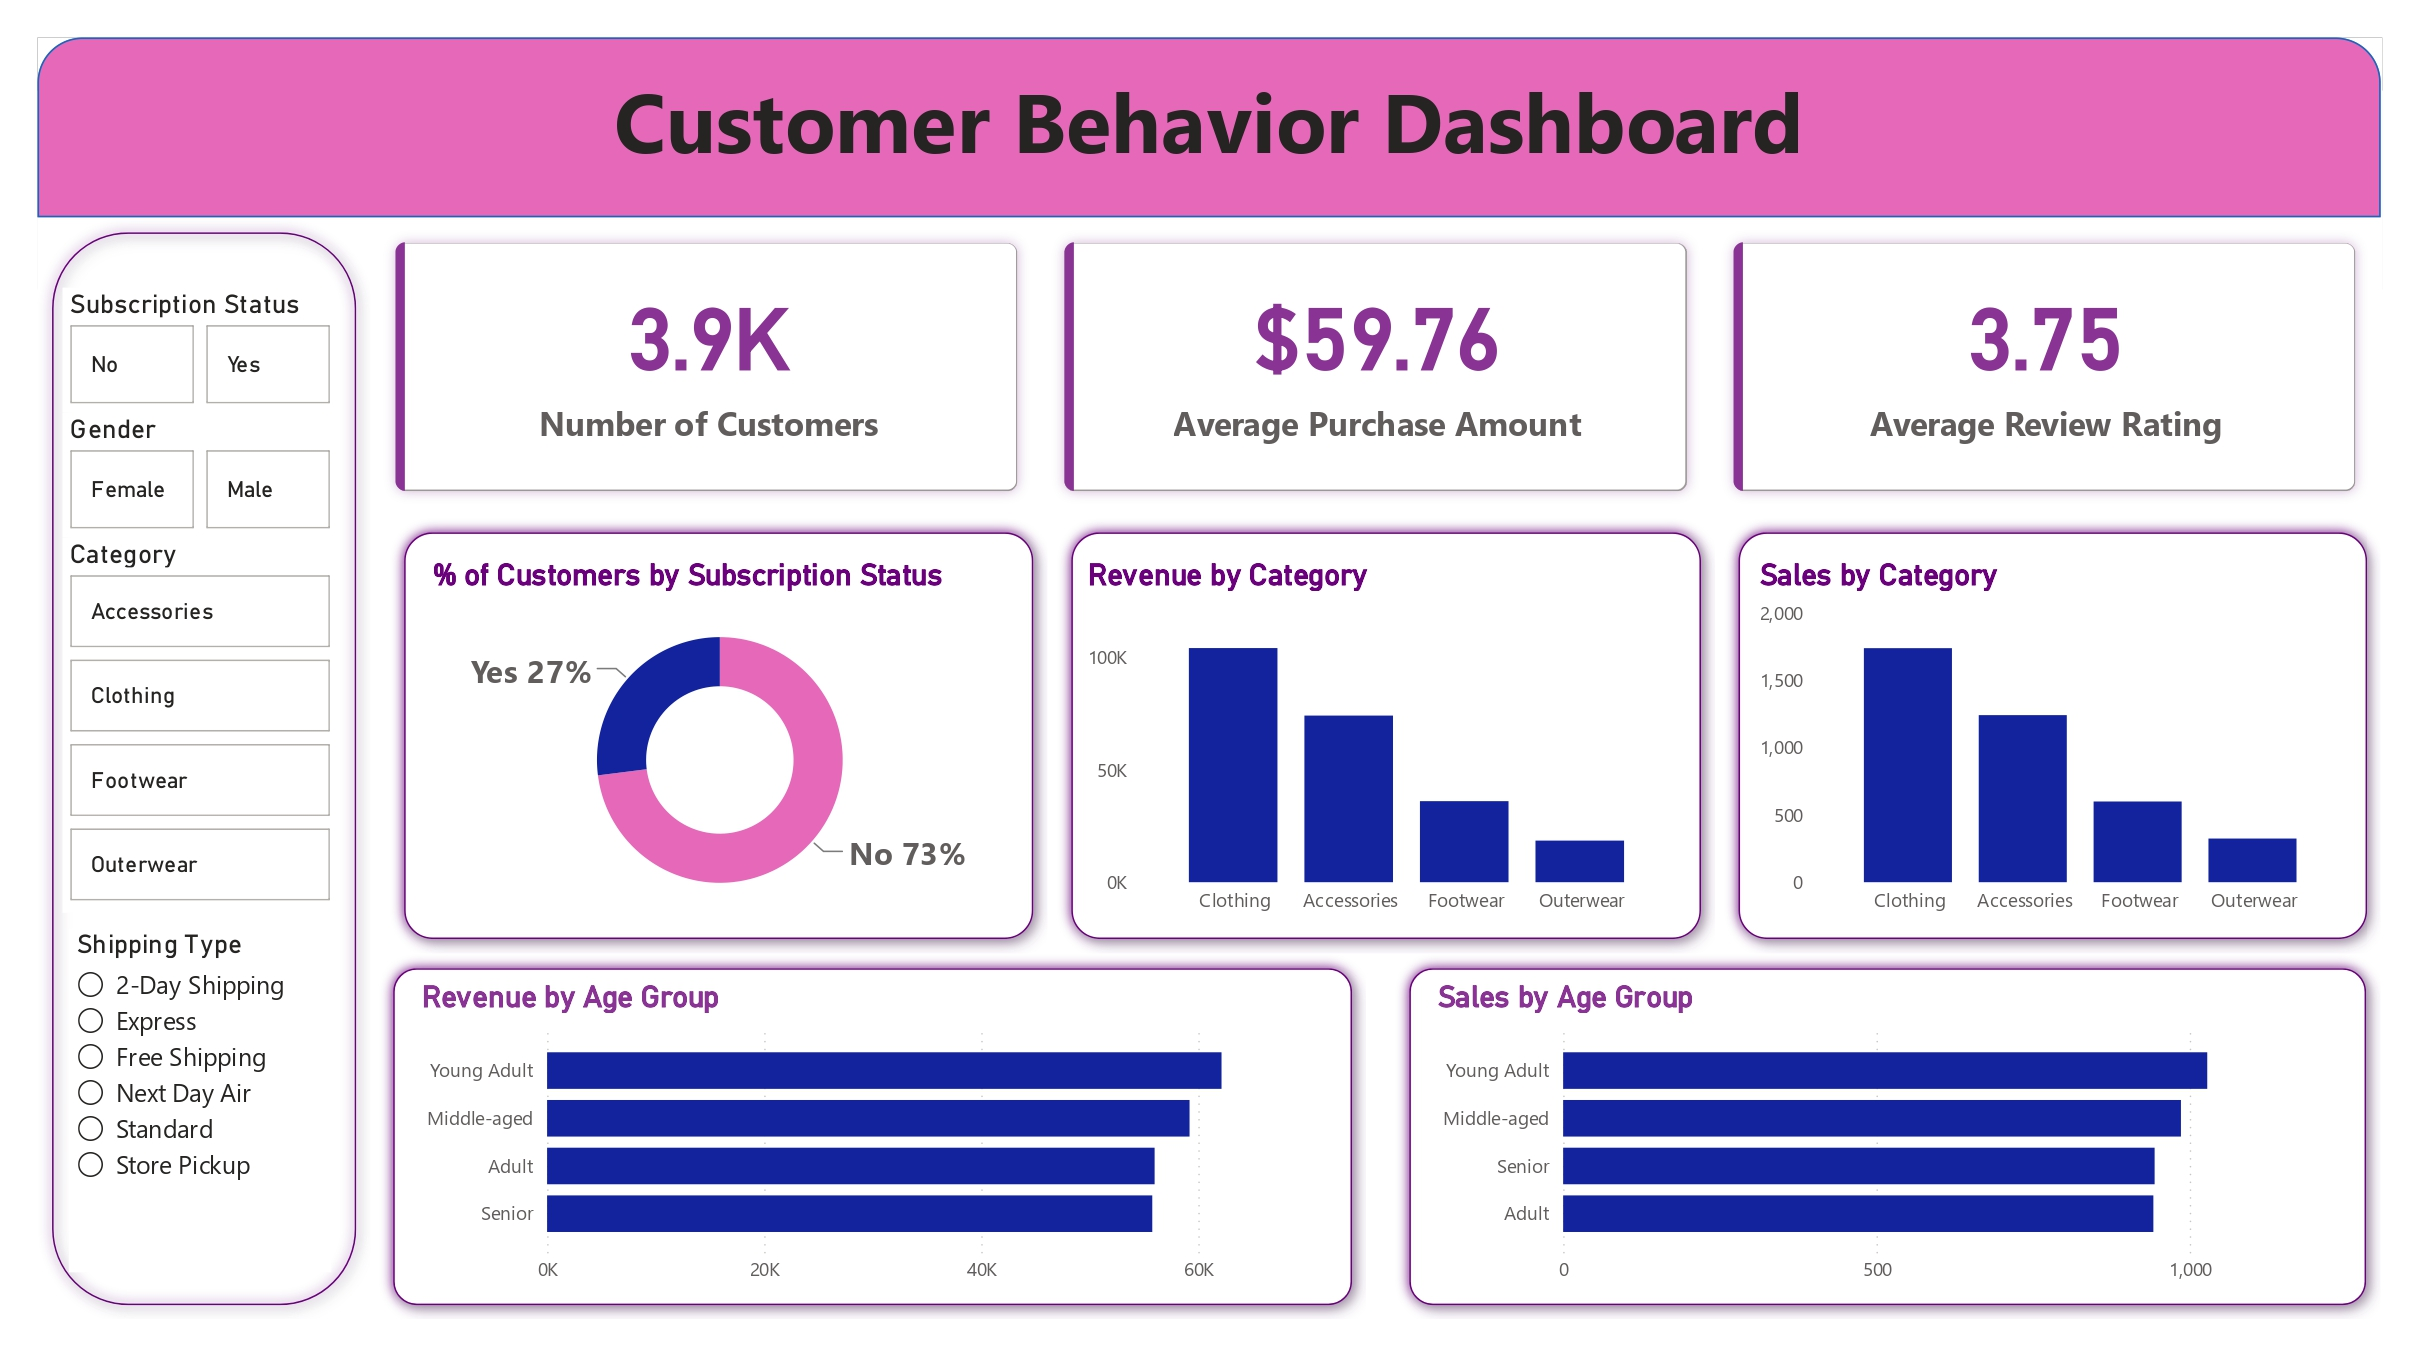

This screenshot's page, from the dashboard's own definition file:
{"tool":"powerbi","page":{"name":"Page 1","canvas":[1500,820],"ordinal":0},"visuals":[{"type":"cardVisual","fields":{"Data":["public customer.Number of Customers","public customer.Average Purchase Amount","public customer.Average Review Rating"]},"box":[212.9,115.3,1286.5,191.6],"z":2000},{"type":"shape","box":[218.3,585.6,631.7,234.2],"z":2500,"group":"g1"},{"type":"shape","box":[0,0,1499.4,115.3],"z":3000},{"type":"textbox","box":[0,12.4,1499.4,102.9],"z":4000},{"type":"shape","box":[225.4,307,420.5,278.6],"z":5000},{"type":"donutChart","title":"% of Customers by Subscription Status","fields":{"Category":["public customer.subscription_status"],"Y":["CountNonNull(public customer.customer_id)"]},"box":[248.4,331.8,376.2,237.8],"z":6000},{"type":"shape","box":[1078.9,307,420.5,278.6],"z":7000},{"type":"shape","box":[652.1,307,420.5,278.6],"z":8000},{"type":"clusteredColumnChart","title":"Revenue by Category","fields":{"Y":["Sum(public customer.purchase_amount)"],"Category":["public customer.category"]},"box":[667.2,331.8,385.1,237.8],"z":9000},{"type":"clusteredColumnChart","title":"Sales by Category","fields":{"Y":["CountNonNull(public customer.customer_id)"],"Category":["public customer.category"]},"box":[1096.6,331.8,385.1,237.8],"z":10000},{"type":"shape","box":[0,115.3,212.9,704.5],"z":11000},{"type":"advancedSlicerVisual","fields":{"Values":["public customer.subscription_status"]},"box":[16,160,176,80],"z":12000},{"type":"advancedSlicerVisual","fields":{"Values":["public customer.gender"]},"box":[16,240,176,80],"z":13000},{"type":"advancedSlicerVisual","fields":{"Values":["public customer.category"]},"box":[16,320,176,240],"z":14000},{"type":"listSlicer","fields":{"Values":["public customer.shipping_type"]},"box":[19.5,569.6,168.6,220],"z":15000},{"type":"shape","box":[867.7,585.6,631.7,234.2],"z":16000},{"type":"clusteredBarChart","title":"Sales by Age Group","fields":{"Y":["CountNonNull(public customer.customer_id)"],"Category":["public customer.age_group"]},"box":[890.8,601.5,585.6,204.1],"z":17000},{"type":"clusteredBarChart","title":"Revenue by Age Group","fields":{"Y":["Sum(public customer.purchase_amount)"],"Category":["public customer.age_group"]},"box":[241.4,601.6,585.6,204.1],"z":17500,"group":"g1"},{"type":"group","id":"g1","title":"Group 1","box":[218.3,585.6,631.7,234.2],"z":17501}]}

Visuals, with their boxes in screenshot pixels (x1, y1, x2, y2):
cardVisual - public customer.Number of Customers x public customer.Average Purchase Amount: rect(390, 221, 2364, 515)
shape: rect(398, 943, 1367, 1302)
shape: rect(63, 44, 2364, 221)
textbox: rect(63, 63, 2364, 221)
shape: rect(409, 515, 1054, 943)
"% of Customers by Subscription Status" donutChart: rect(444, 553, 1022, 918)
shape: rect(1719, 515, 2364, 943)
shape: rect(1064, 515, 1709, 943)
"Revenue by Category" clusteredColumnChart: rect(1087, 553, 1678, 918)
"Sales by Category" clusteredColumnChart: rect(1746, 553, 2337, 918)
shape: rect(63, 221, 390, 1302)
advancedSlicerVisual - public customer.subscription_status: rect(88, 290, 358, 412)
advancedSlicerVisual - public customer.gender: rect(88, 412, 358, 535)
advancedSlicerVisual - public customer.category: rect(88, 535, 358, 904)
listSlicer - public customer.shipping_type: rect(93, 918, 352, 1256)
shape: rect(1395, 943, 2364, 1302)
"Sales by Age Group" clusteredBarChart: rect(1430, 967, 2329, 1280)
"Revenue by Age Group" clusteredBarChart: rect(433, 967, 1332, 1281)
"Group 1" group: rect(398, 943, 1367, 1302)
